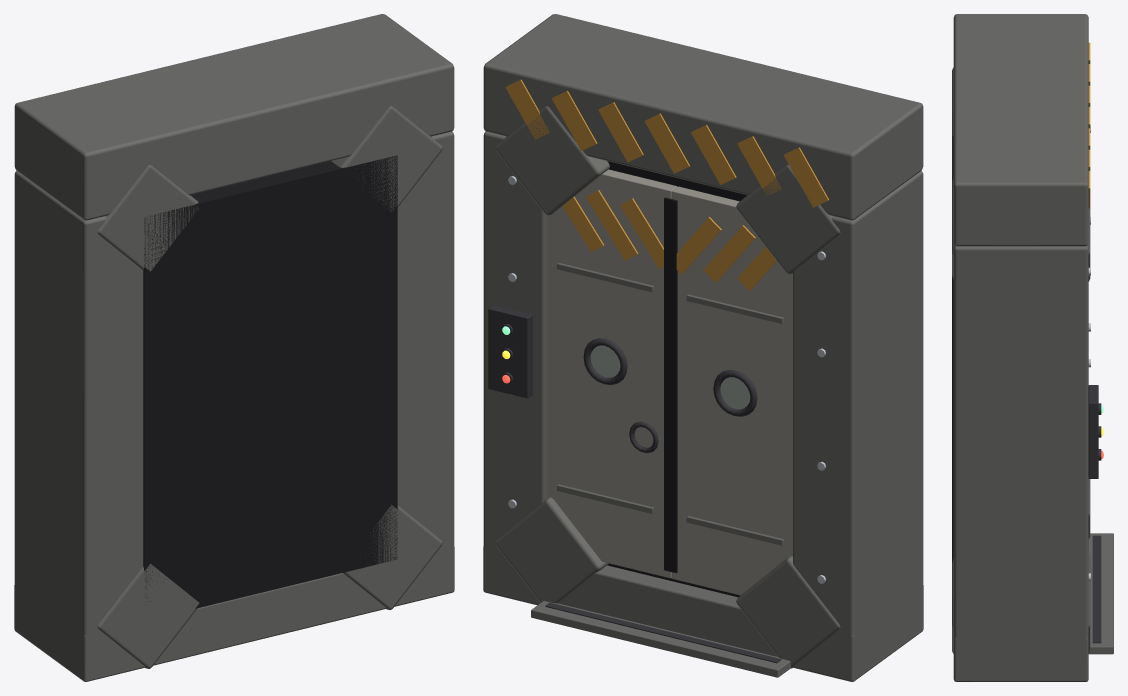
The model's file is station_D.glb.
The picture shows the model from 3 angles, left to right: view 1: azimuth 30°, elevation 25°; view 2: azimuth 150°, elevation 25°; view 3: azimuth 270°, elevation 25°; orthographic projection. The views are drawn at different scales.
Parts seen in each view (by area): view 1: station_D_greyd, recess; view 2: station_D_greyd, leaf_l, leaf_r, station_D_amber, station_D_graph, anim_leaf_r_amber, anim_leaf_l_amber, seal_l, seal_r, recess, anim_leaf_l_greyd, anim_leaf_r_greyd (+4 smaller); view 3: station_D_greyd, station_D_graph, recess, station_D_amber.
Part boxes in pixels (x1=…): station_D_greyd: x1=14, y1=14, x2=454, y2=681; recess: x1=143, y1=155, x2=397, y2=608; station_D_greyd: x1=483, y1=14, x2=923, y2=681; leaf_l: x1=671, y1=186, x2=792, y2=595; leaf_r: x1=547, y1=169, x2=677, y2=578; station_D_amber: x1=505, y1=79, x2=828, y2=207; station_D_graph: x1=488, y1=305, x2=781, y2=663; anim_leaf_r_amber: x1=562, y1=190, x2=663, y2=268; anim_leaf_l_amber: x1=676, y1=217, x2=776, y2=291; seal_l: x1=670, y1=199, x2=677, y2=573; seal_r: x1=664, y1=197, x2=671, y2=571; recess: x1=607, y1=161, x2=747, y2=597; anim_leaf_l_greyd: x1=686, y1=294, x2=783, y2=545; anim_leaf_r_greyd: x1=557, y1=262, x2=653, y2=513; station_D_greyd: x1=952, y1=14, x2=1113, y2=681; station_D_graph: x1=1088, y1=385, x2=1101, y2=643; recess: x1=952, y1=135, x2=953, y2=562; station_D_amber: x1=1088, y1=42, x2=1090, y2=208.
Size of the model in its own units: 2.4 by 3.28 by 0.96.
